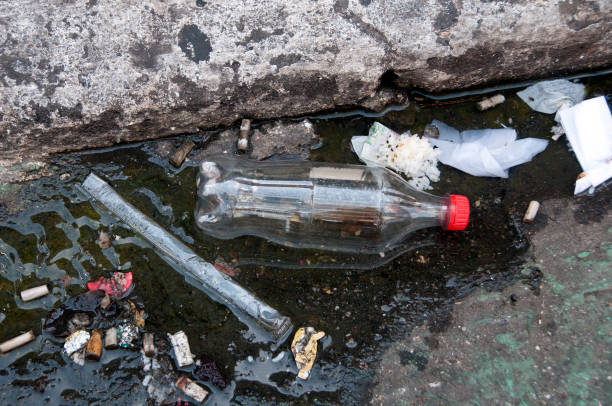General waste: (75, 268, 204, 406), (0, 275, 53, 362), (283, 322, 326, 385)
paper: (543, 83, 612, 192)
plastic: (77, 162, 308, 362), (168, 142, 498, 271), (425, 118, 545, 182), (510, 77, 591, 120)
